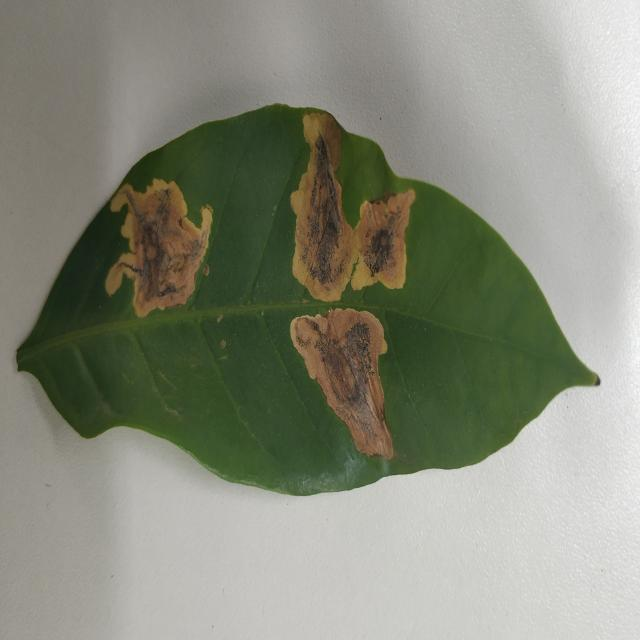Plaga-Minador: (14, 104, 600, 499)
